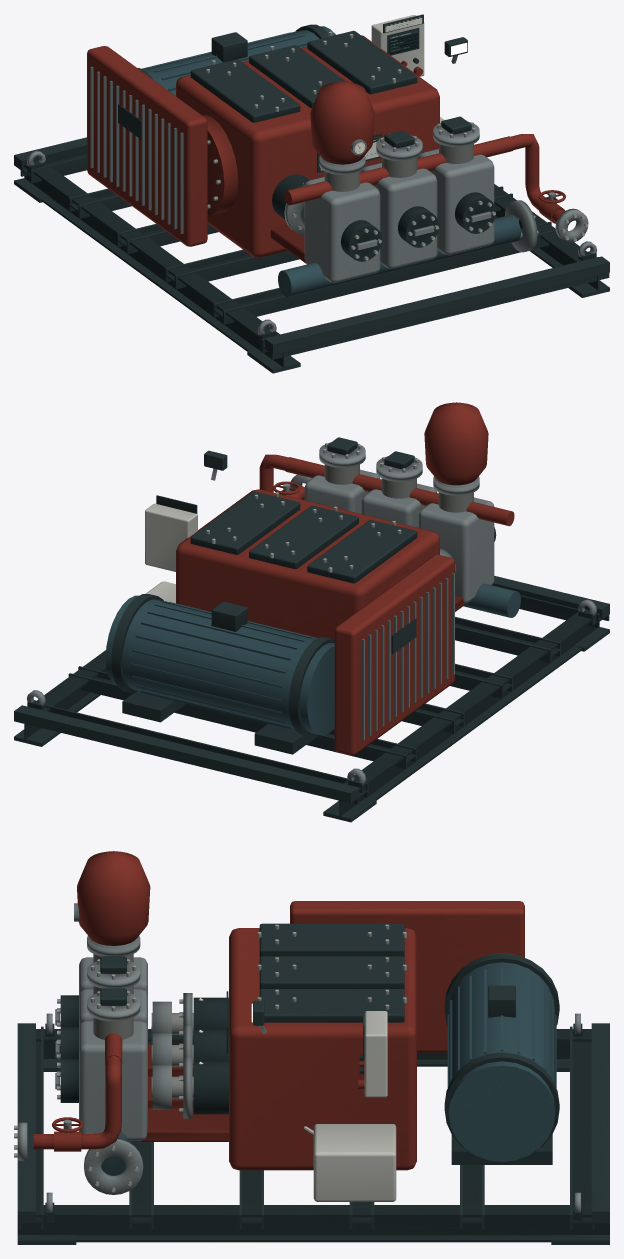
File: mud_pump_single_lodh.glb
3 renders of one model, top to bottom at view 1: azimuth 30°, elevation 25°; view 2: azimuth 150°, elevation 25°; view 3: azimuth 270°, elevation 25°, orthographic. The views are drawn at different scales.
Visible parts, largest first — view 1: skid_dark, power_end_oxide, fluid_end_steel, drive_guard_oxide, power_end_dark, drive_guard_steel, pulsation_dampener_oxide, fluid_end_dark, discharge_manifold_oxide, suction_manifold_blue, drive_motor_blue, fluid_end_machined (+10 smaller); view 2: skid_dark, drive_motor_blue, power_end_oxide, drive_guard_oxide, power_end_dark, fluid_end_steel, drive_motor_dark, drive_guard_steel, pulsation_dampener_oxide, discharge_manifold_oxide, control_panel_ivory, fluid_end_machined (+3 smaller); view 3: skid_dark, power_end_oxide, drive_motor_blue, power_end_dark, drive_guard_oxide, fluid_end_steel, liner_cooling_and_lubrication_ivory, pulsation_dampener_oxide, drive_motor_dark, liners_and_pony_rods_dark, liners_and_pony_rods_steel, discharge_manifold_oxide (+8 smaller).
Boxes of the visible parts, x1,y1,x2,y2 form: skid_dark: (14,137,609,373); power_end_oxide: (176,35,439,257); fluid_end_steel: (304,121,494,282); drive_guard_oxide: (87,46,207,246); power_end_dark: (190,30,417,172); drive_guard_steel: (90,66,183,233); pulsation_dampener_oxide: (310,81,374,164); fluid_end_dark: (341,116,496,261); discharge_manifold_oxide: (284,134,565,223); suction_manifold_blue: (278,214,520,297); drive_motor_blue: (141,26,335,95); fluid_end_machined: (324,122,495,260); skid_dark: (14,576,609,822); drive_motor_blue: (105,595,334,734); power_end_oxide: (176,489,439,638); drive_guard_oxide: (334,554,454,755); power_end_dark: (190,491,417,583); fluid_end_steel: (304,442,494,603); drive_motor_dark: (111,594,334,754); drive_guard_steel: (361,573,454,740); pulsation_dampener_oxide: (424,402,488,485); discharge_manifold_oxide: (259,454,514,526); control_panel_ivory: (145,503,197,571); fluid_end_machined: (323,440,473,512); skid_dark: (17,1023,609,1244); power_end_oxide: (229,928,416,1170); drive_motor_blue: (447,953,556,1161); power_end_dark: (226,923,404,1053); drive_guard_oxide: (290,901,524,1052); fluid_end_steel: (55,935,147,1140); liner_cooling_and_lubrication_ivory: (313,1124,396,1201); pulsation_dampener_oxide: (77,851,150,945); drive_motor_dark: (444,953,559,1164); liners_and_pony_rods_dark: (193,997,228,1114); liners_and_pony_rods_steel: (152,993,192,1118); discharge_manifold_oxide: (33,1033,122,1151).
Size of the model in its own units: 4.85 by 3.18 by 6.49.
10 materials, 10 textured.
